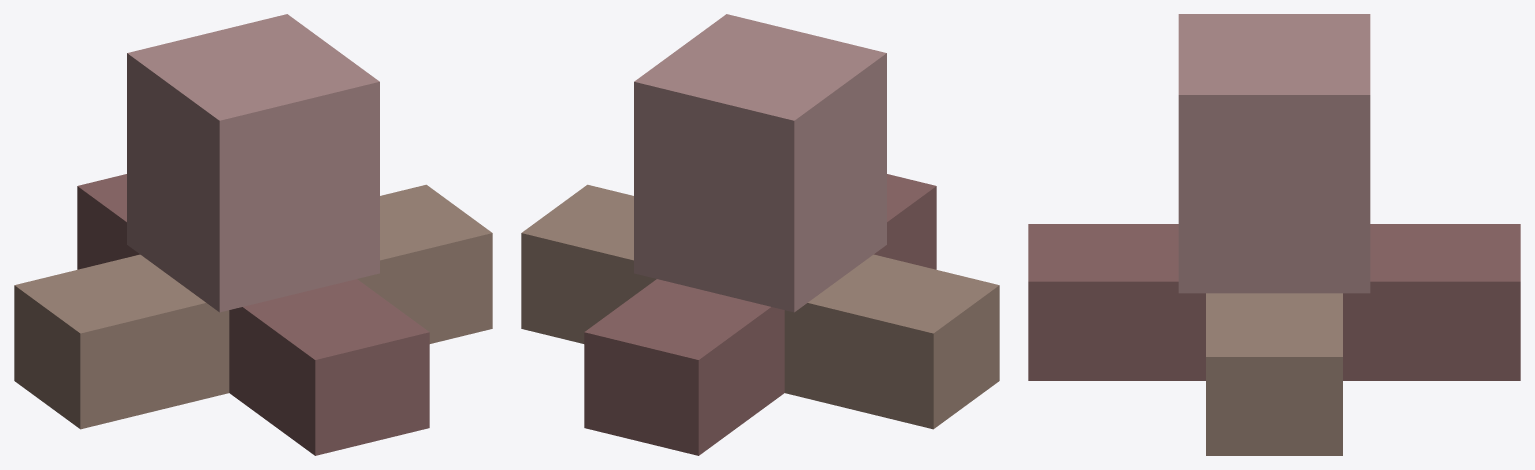
The model's file is prop_campfire.glb.
3 renders of one model, left to right at view 1: azimuth 30°, elevation 25°; view 2: azimuth 150°, elevation 25°; view 3: azimuth 270°, elevation 25°, orthographic. The views are drawn at different scales.
Visible parts, largest first — view 1: prop_campfire; view 2: prop_campfire; view 3: prop_campfire.
Boxes of the visible parts, x1,y1,x2,y2 form: prop_campfire: (14, 14, 492, 455); prop_campfire: (521, 14, 999, 455); prop_campfire: (1028, 14, 1520, 455).
Bounding box in the file's own units: 0.9 × 0.6 × 0.9.
